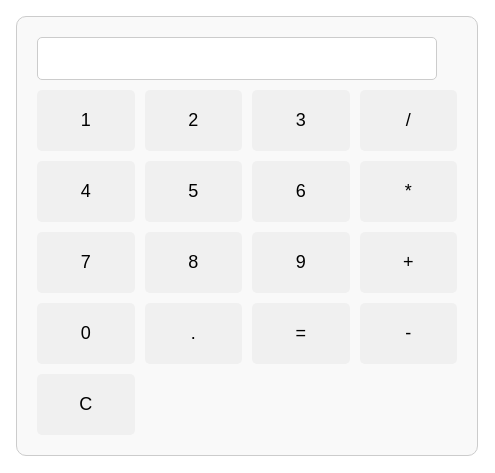
Scenario: Calculadora › deve exibir números corretamente
This screenshot has width=495, height=473.
Click the button "1". click: (86, 120)
box: [37, 90, 134, 151]
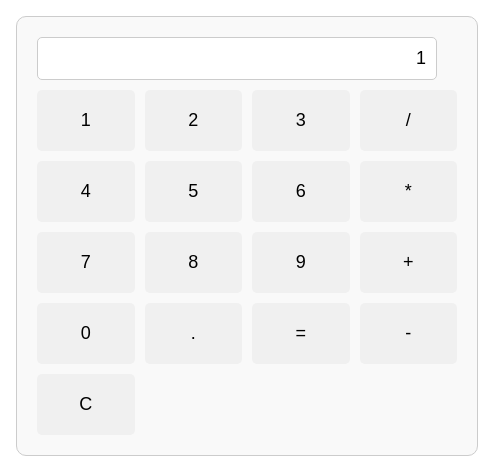
Click the button "2". click: (193, 120)
box: [144, 90, 242, 151]
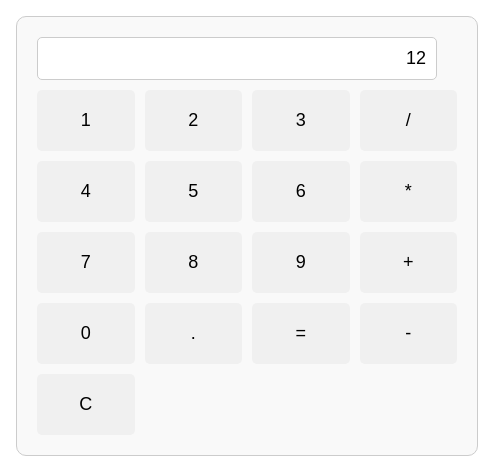
Click the button "3". click: (301, 120)
box: [252, 90, 350, 151]
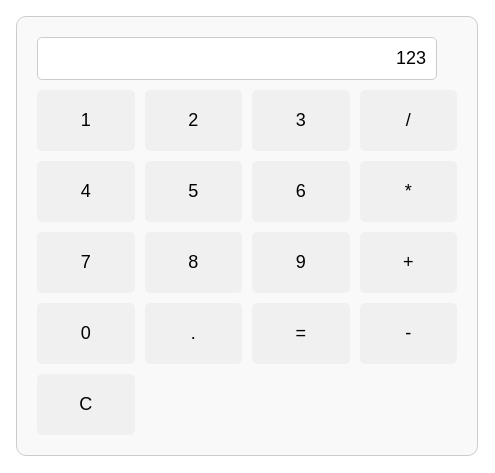
Expected: the field holds "123", [37, 37, 437, 80]
